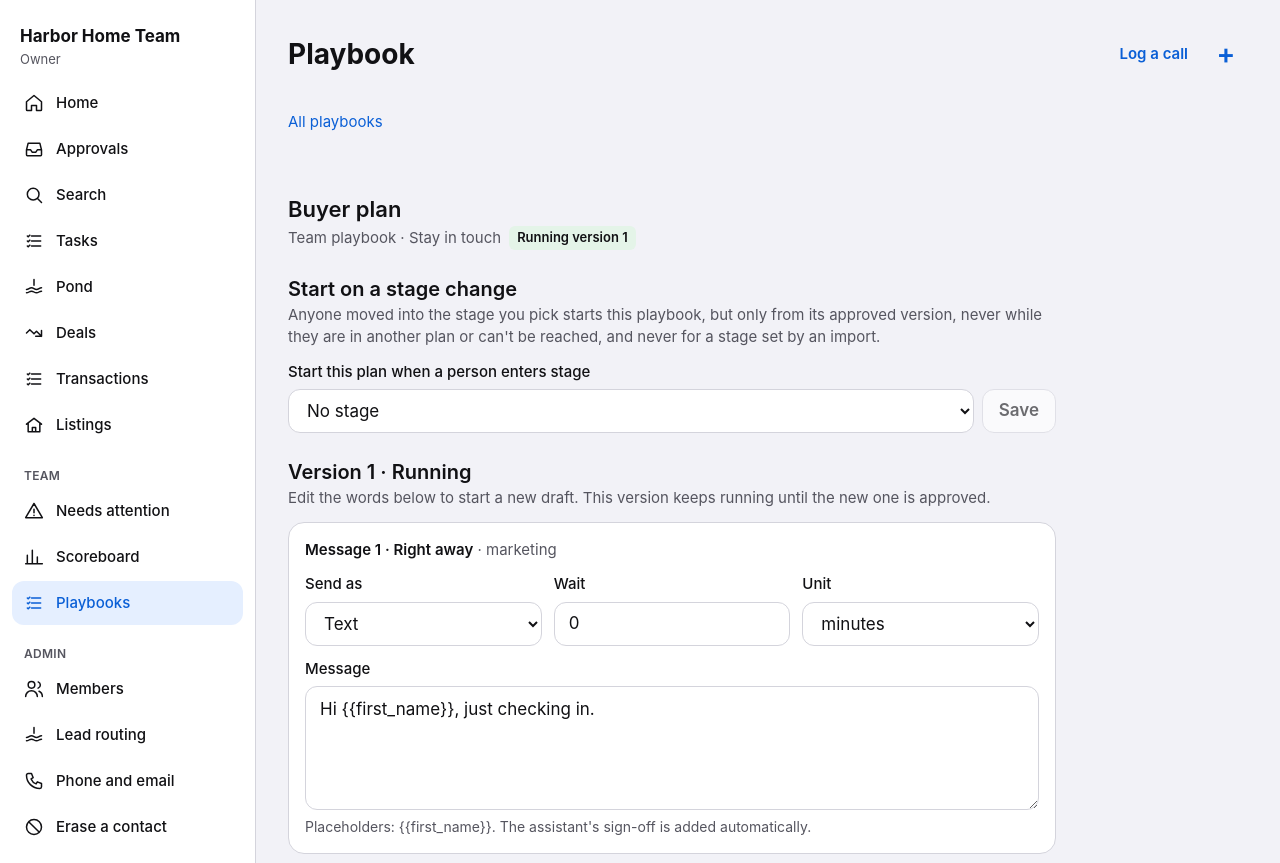
R-PAR-16 "Start this plan when a person enters stage …" (PARITY_PLAN §1 action plan on stage change) › an Owner picks the stage of a team playbook from the tenant's stage labels; the saved stage is what the page shows
Expected: the heading "Start on a stage change" is shown, [288,276,517,300]
Expected: the text "only from its approved version, never while they are in another plan or can't be reached, and never for a stage set by a" is shown, [288,304,1042,346]
Select "Active buyer" in the dropdown labelled "Start this plan when a person enters stage". click: (631, 411)
box: [288,389,974,433]
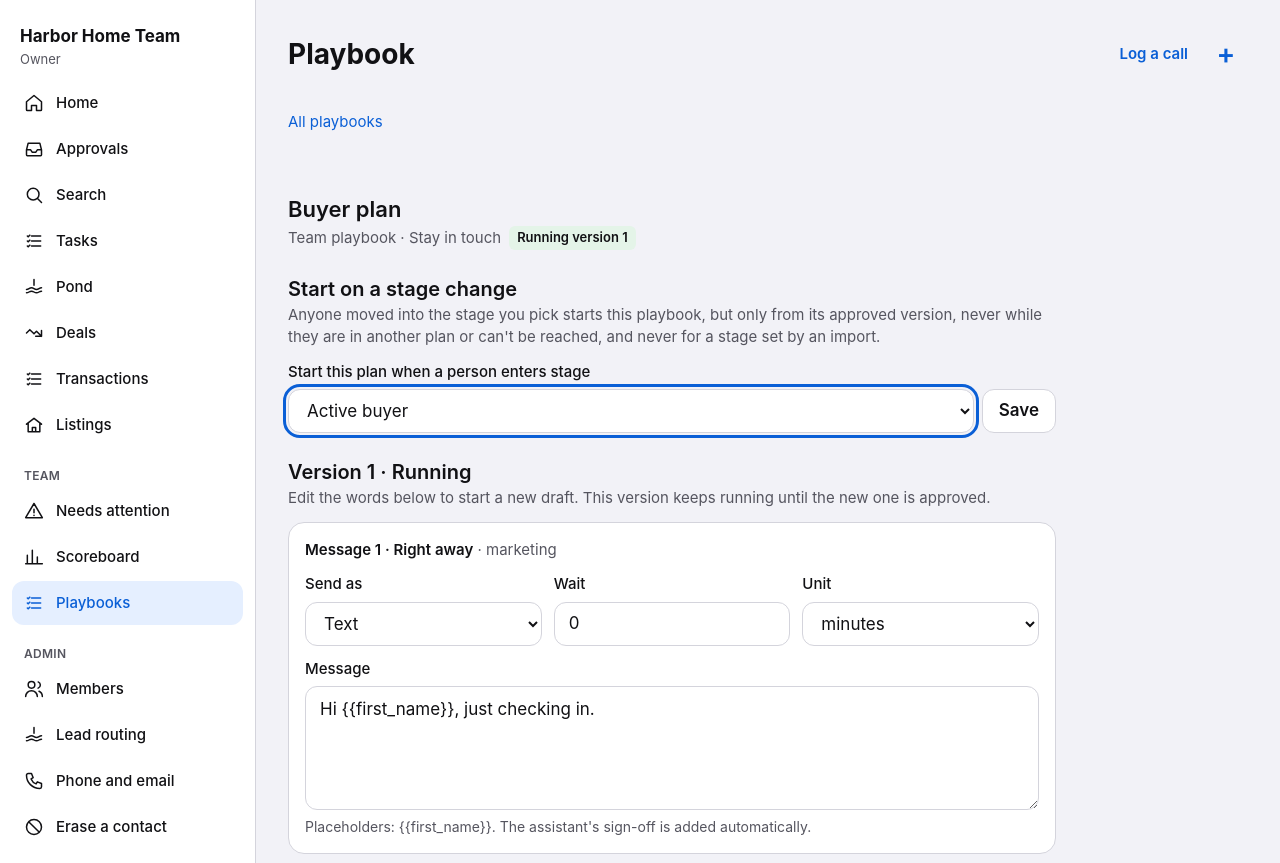
Click the button "Save". click: (1019, 411)
box: [982,389,1056,433]
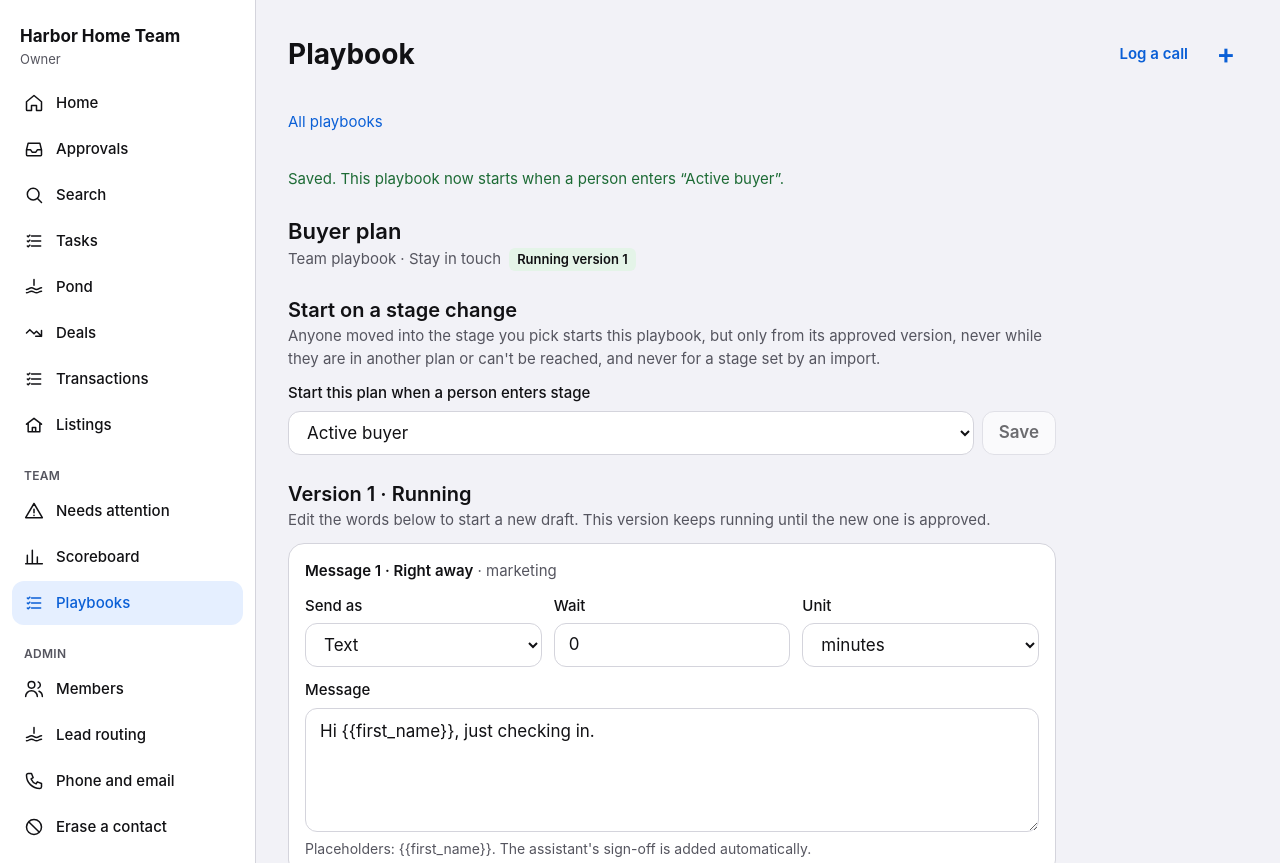
Now the text "Saved. This playbook now starts when a person enters “Active buyer”." is shown, box [288,169,784,188]
Now the button "Save" is disabled, box [982,410,1056,454]
